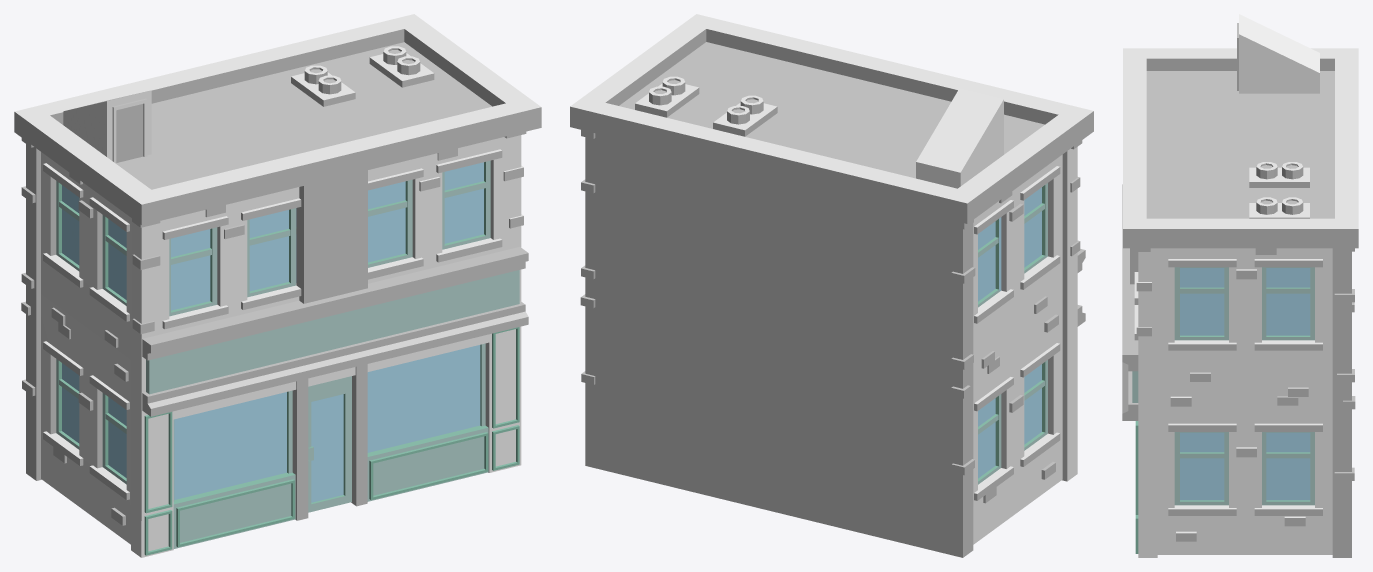
File: house_small_2_001.glb
3 views of the same model, side by side, from view 1: azimuth 30°, elevation 25°; view 2: azimuth 150°, elevation 25°; view 3: azimuth 270°, elevation 25° (orthographic). The views are drawn at different scales.
Visible parts, largest first — view 1: house_small_2_001; view 2: house_small_2_001; view 3: house_small_2_001.
Part boxes in pixels (x1,y1,x2,y2): house_small_2_001: [14, 14, 541, 557]; house_small_2_001: [570, 14, 1093, 557]; house_small_2_001: [1122, 14, 1358, 557].
Bounding box in the file's own units: 7.24 × 7.13 × 4.
1 material, 1 textured.
